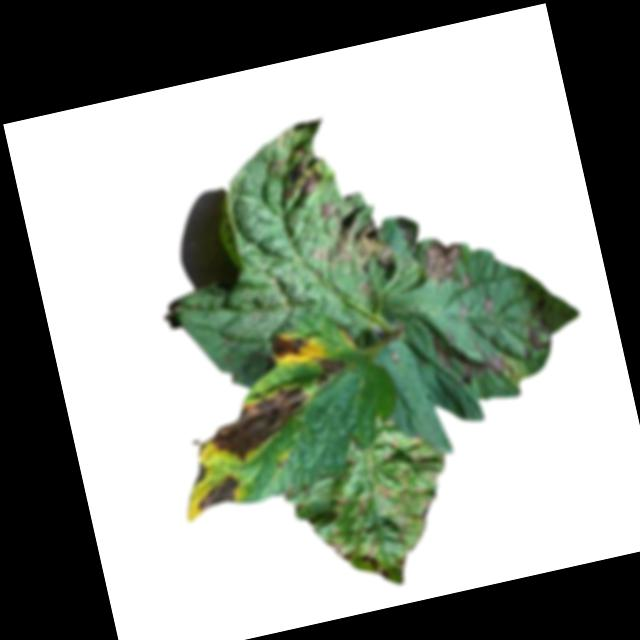Early_blight: (200, 379, 319, 470), (309, 188, 397, 278), (424, 313, 517, 394), (270, 145, 328, 203), (417, 231, 467, 285), (192, 472, 244, 514), (265, 325, 306, 368), (356, 536, 391, 584), (309, 351, 348, 389), (515, 325, 548, 362), (322, 534, 359, 564), (190, 460, 209, 485)
